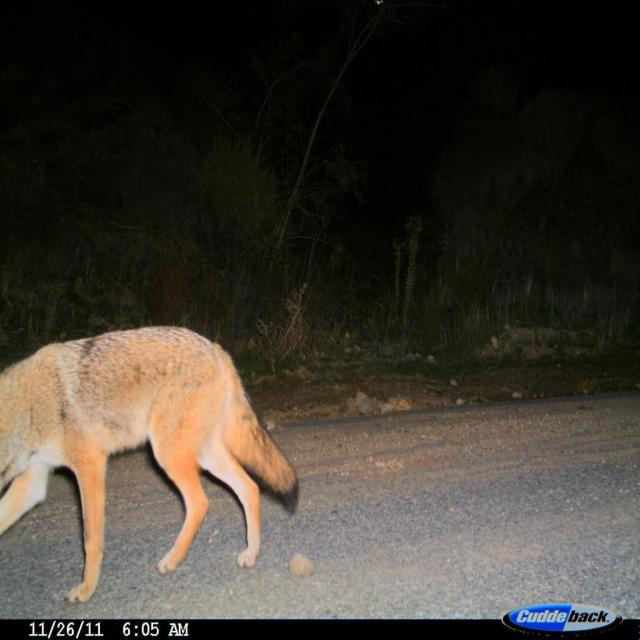coyote: (1, 317, 307, 613)
